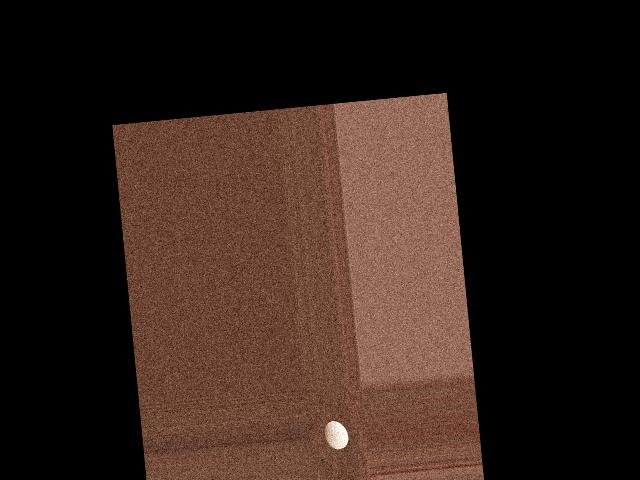egg: (323, 419, 349, 450)
